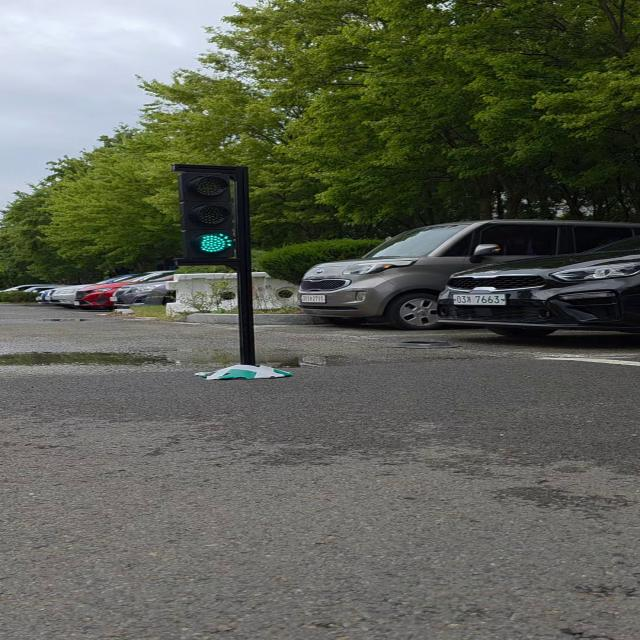green: (175, 166, 247, 264)
